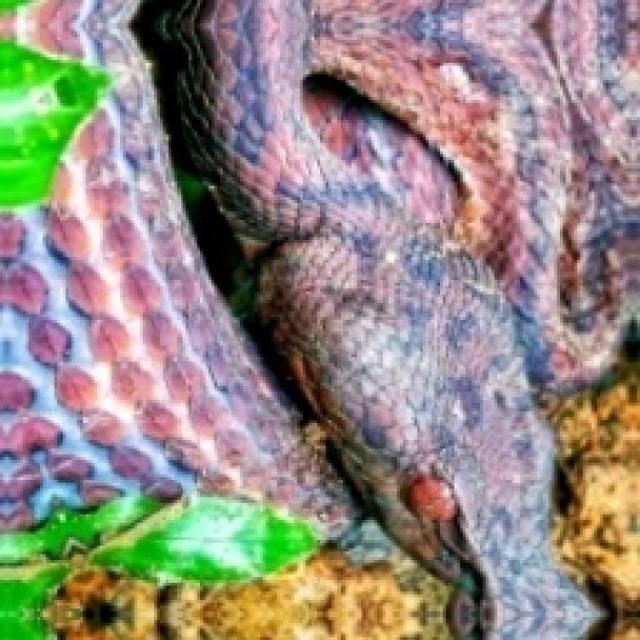philippine pitviper: (151, 0, 637, 637), (183, 0, 637, 637), (0, 0, 354, 534)
